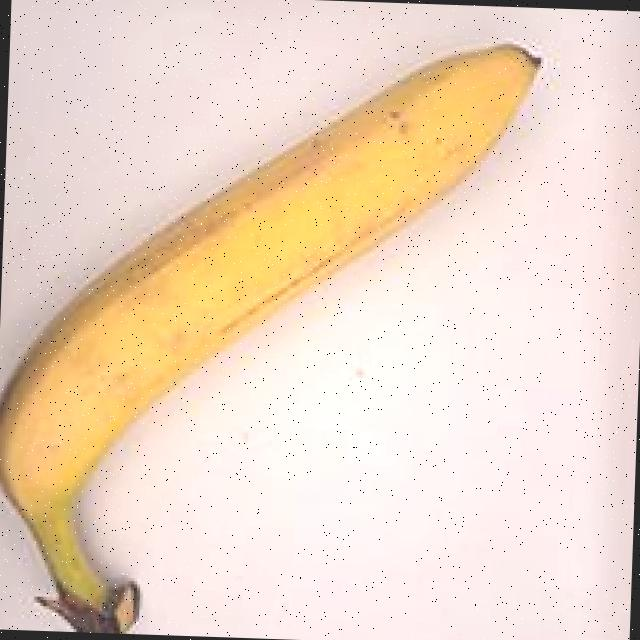Ripe: (0, 4, 578, 640)
